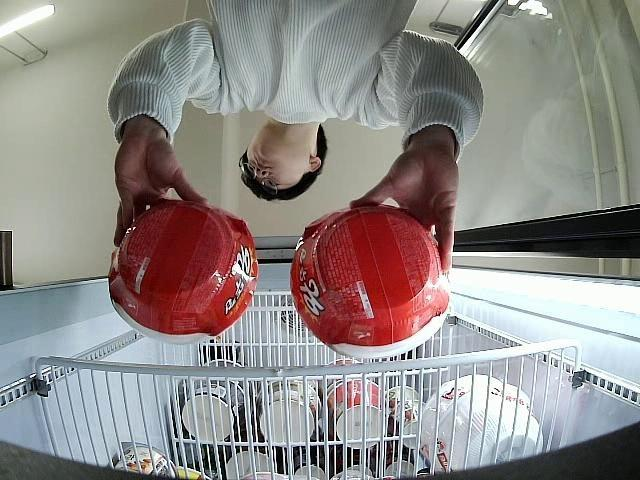10_wangTtukkeong: (289, 202, 450, 358), (110, 203, 258, 340)
